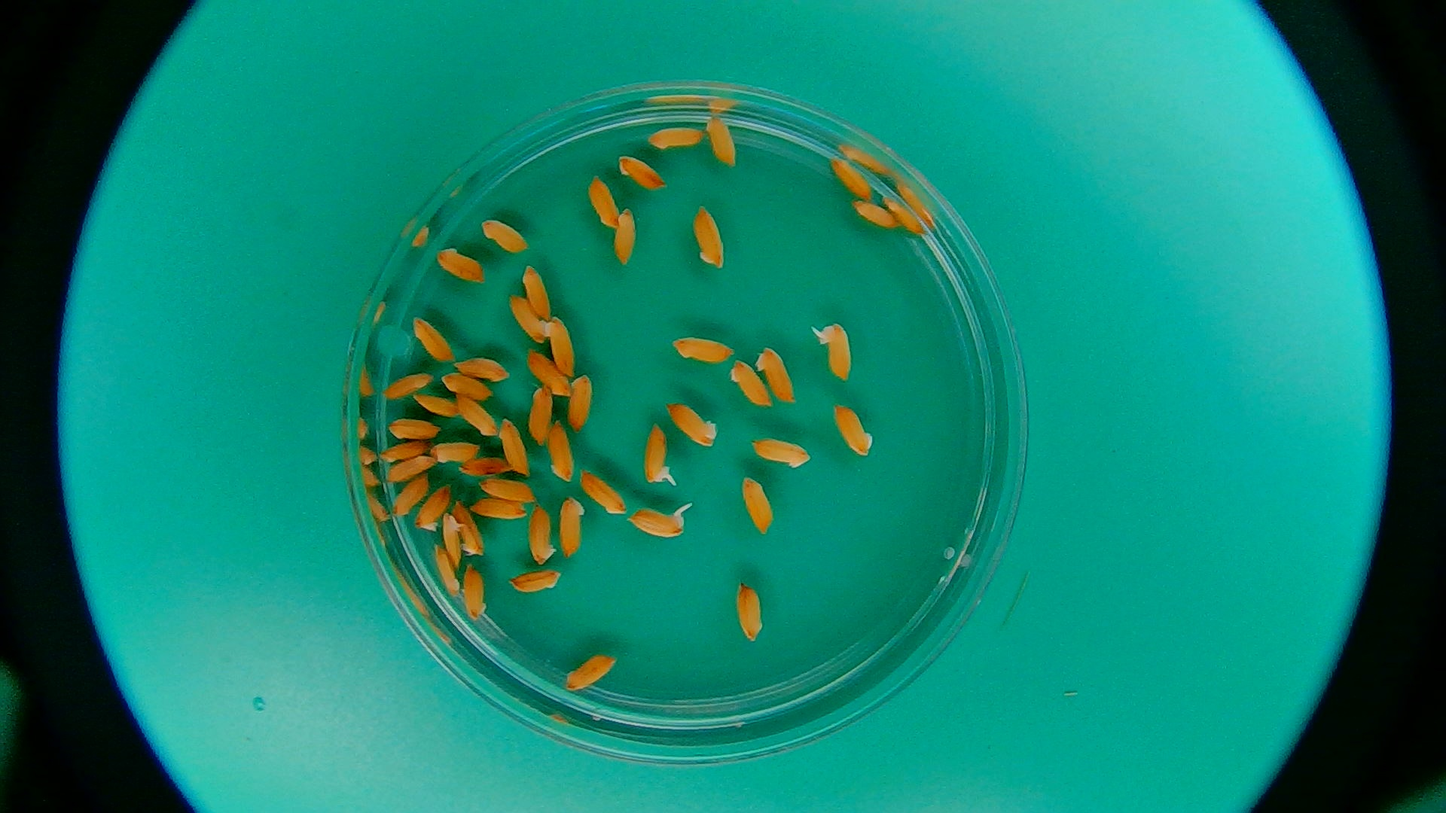no: (830, 395, 877, 461), (665, 394, 721, 449), (753, 341, 799, 404), (690, 195, 728, 269), (576, 467, 628, 518), (563, 645, 618, 693), (738, 472, 776, 539), (665, 331, 737, 366), (727, 356, 773, 410), (748, 435, 815, 472), (450, 390, 500, 439), (408, 312, 454, 364), (504, 291, 547, 345), (584, 169, 622, 230), (499, 413, 534, 478), (830, 148, 872, 202), (543, 316, 579, 379), (526, 501, 559, 568), (734, 573, 764, 644), (883, 190, 927, 238), (703, 114, 740, 171), (452, 498, 486, 559), (557, 497, 589, 561), (547, 420, 578, 486), (435, 245, 486, 285), (520, 261, 553, 322), (477, 216, 529, 254), (848, 196, 901, 233), (452, 352, 511, 385), (617, 154, 667, 192), (415, 481, 452, 532), (389, 473, 429, 516), (646, 123, 703, 153), (467, 494, 528, 522), (430, 544, 461, 599), (475, 480, 538, 507), (438, 373, 497, 401), (611, 208, 638, 268), (455, 452, 515, 479), (460, 563, 488, 620), (380, 372, 435, 401), (412, 390, 462, 420), (568, 372, 593, 431), (387, 414, 441, 441), (505, 569, 563, 594), (385, 455, 436, 483), (380, 440, 438, 464), (431, 441, 483, 465)
yes: (626, 504, 688, 538), (820, 319, 852, 382), (643, 426, 674, 486), (438, 511, 466, 569)
